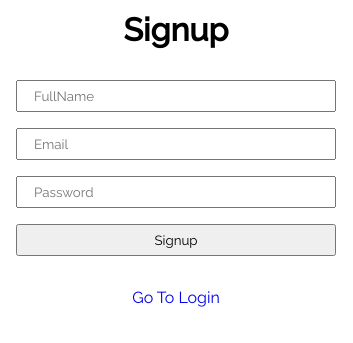
Test: Signup Page Tests › inputs are empty,returns error
Click the button at (176, 240), box [16,224,336,256]
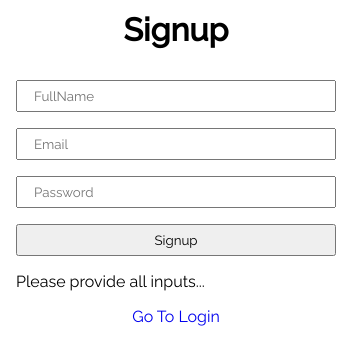
Expected: the text "Please provide all inputs..." is shown, [16,272,205,291]
